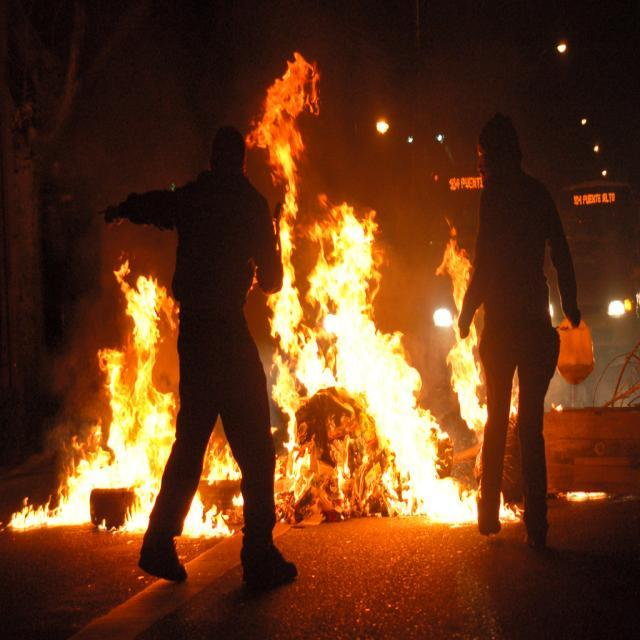Fire: (310, 214, 370, 322), (336, 332, 404, 396), (376, 404, 434, 468), (412, 473, 474, 526), (129, 270, 163, 350), (64, 476, 90, 526)
